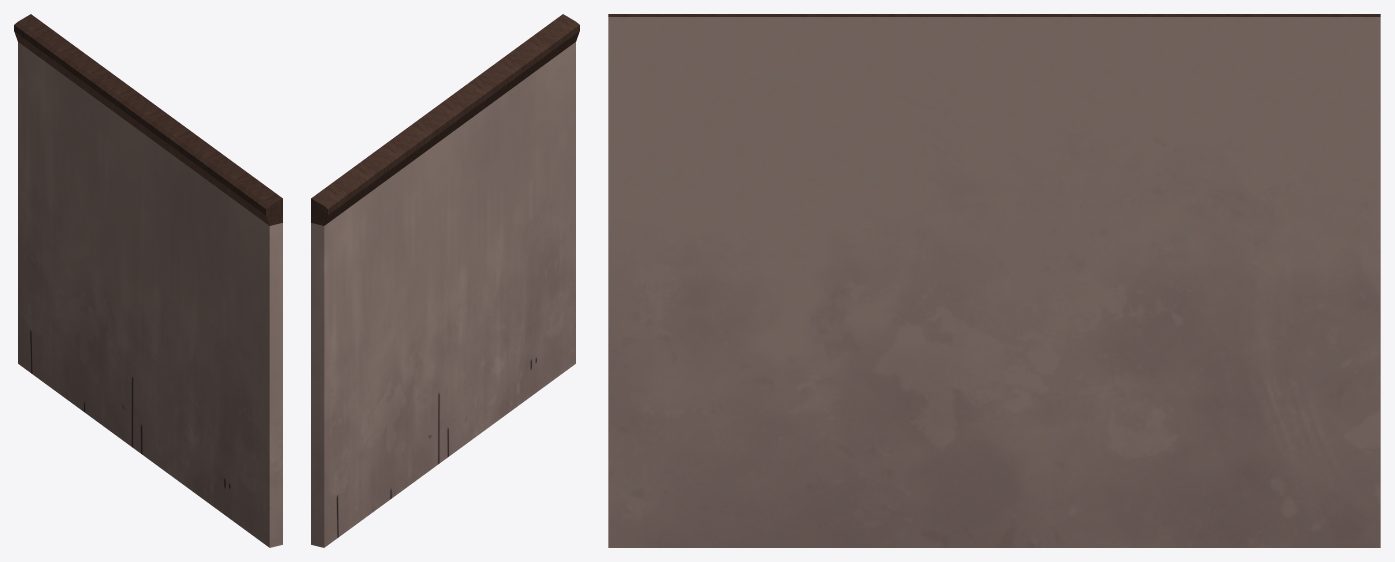
Rendered from Msh_DecoMuraleModulaire_2m.fbx.
3 renders of one model, left to right at view 1: azimuth 30°, elevation 25°; view 2: azimuth 150°, elevation 25°; view 3: azimuth 270°, elevation 25°, orthographic. The views are drawn at different scales.
Parts seen in each view (by area): view 1: deux_metre_mur1; view 2: deux_metre_mur1; view 3: deux_metre_mur1.
Boxes of the visible parts, x1,y1,x2,y2 form: deux_metre_mur1: (14, 14, 282, 547); deux_metre_mur1: (311, 14, 579, 547); deux_metre_mur1: (608, 14, 1380, 547).
Bounding box in the file's own units: 0.3849 × 9.98 × 7.57.
